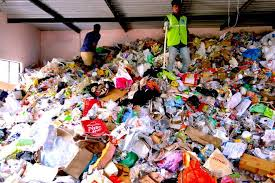garbage: (25, 72, 275, 180), (5, 90, 199, 183), (191, 36, 275, 180), (100, 46, 163, 183)
